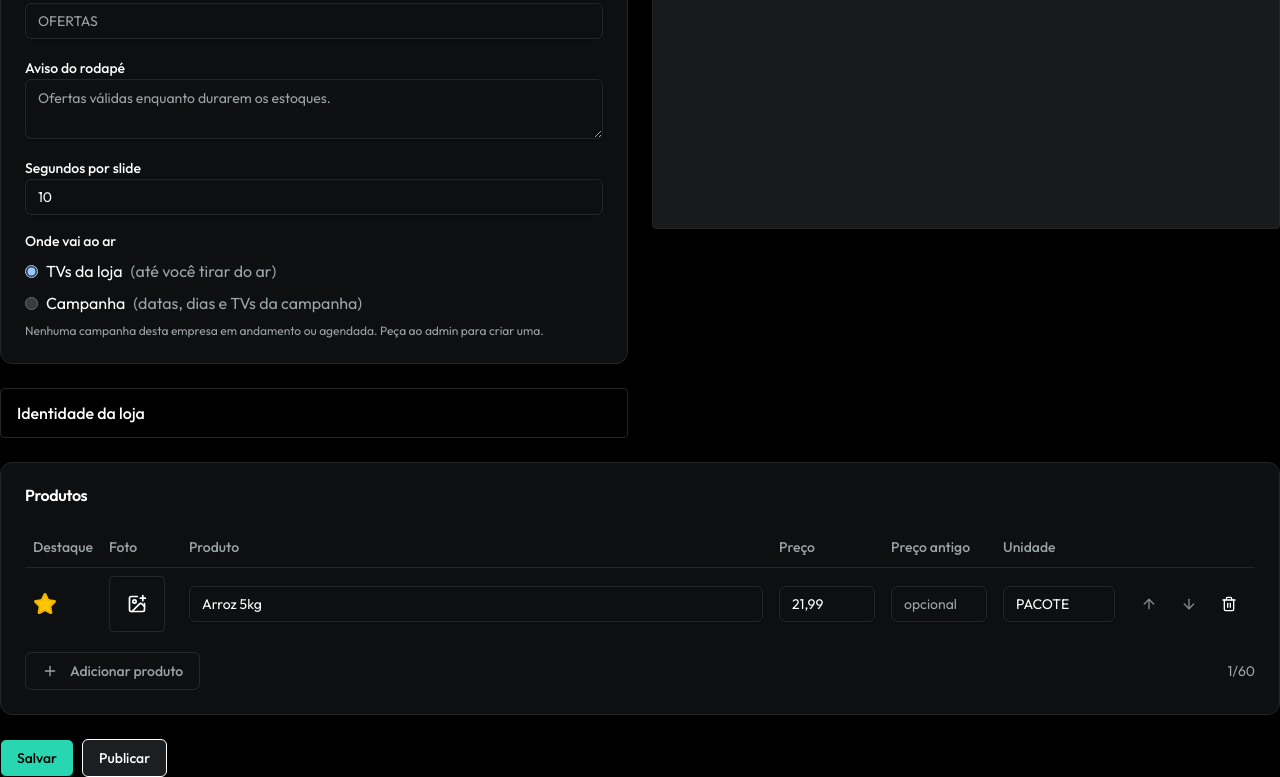
Scenario: FlyerEditor › avisa quando há mais de 3 destaques
(page scrolled)
Check: the 1st field showing "Arroz 5kg" is shown, box [189,586,763,622]
Click the button "Adicionar produto" at {"x": 113, "y": 670}, box [25,652,200,690]
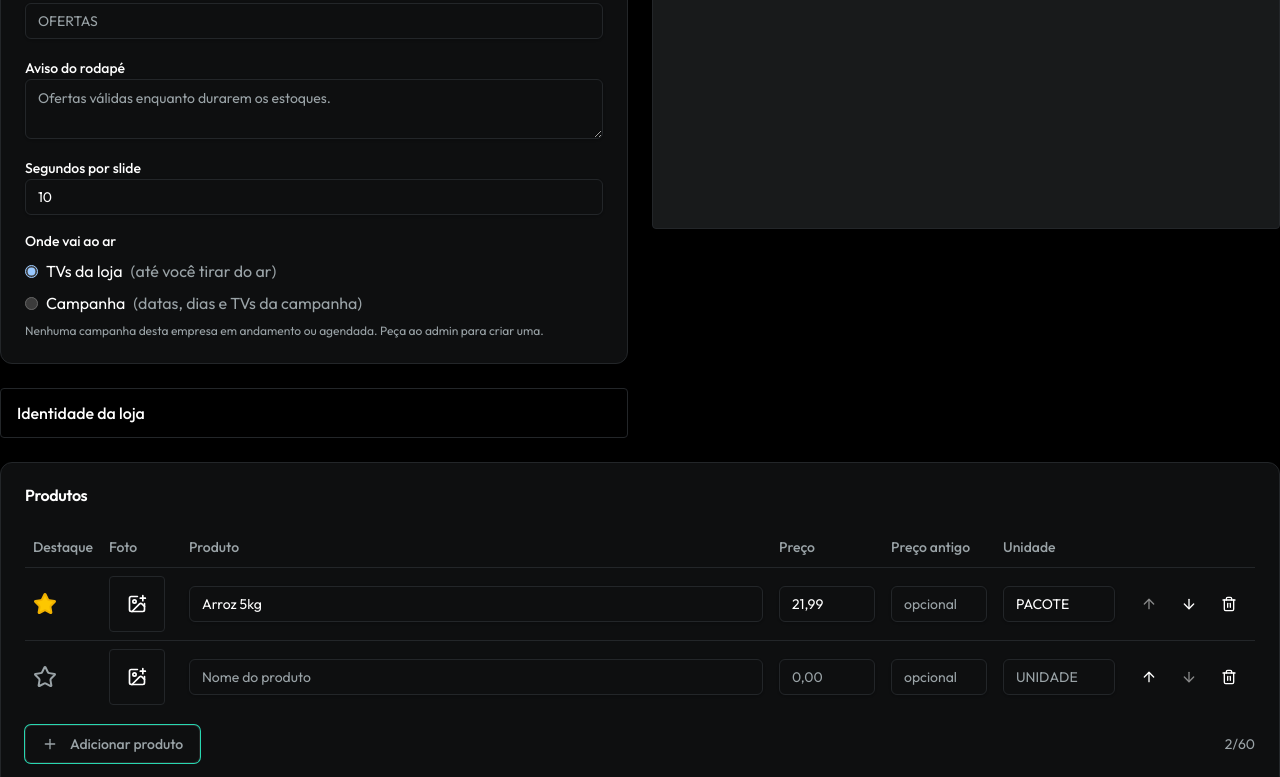
Click the button "Adicionar produto" at {"x": 113, "y": 744}, box [25,724,200,762]
(page scrolled)
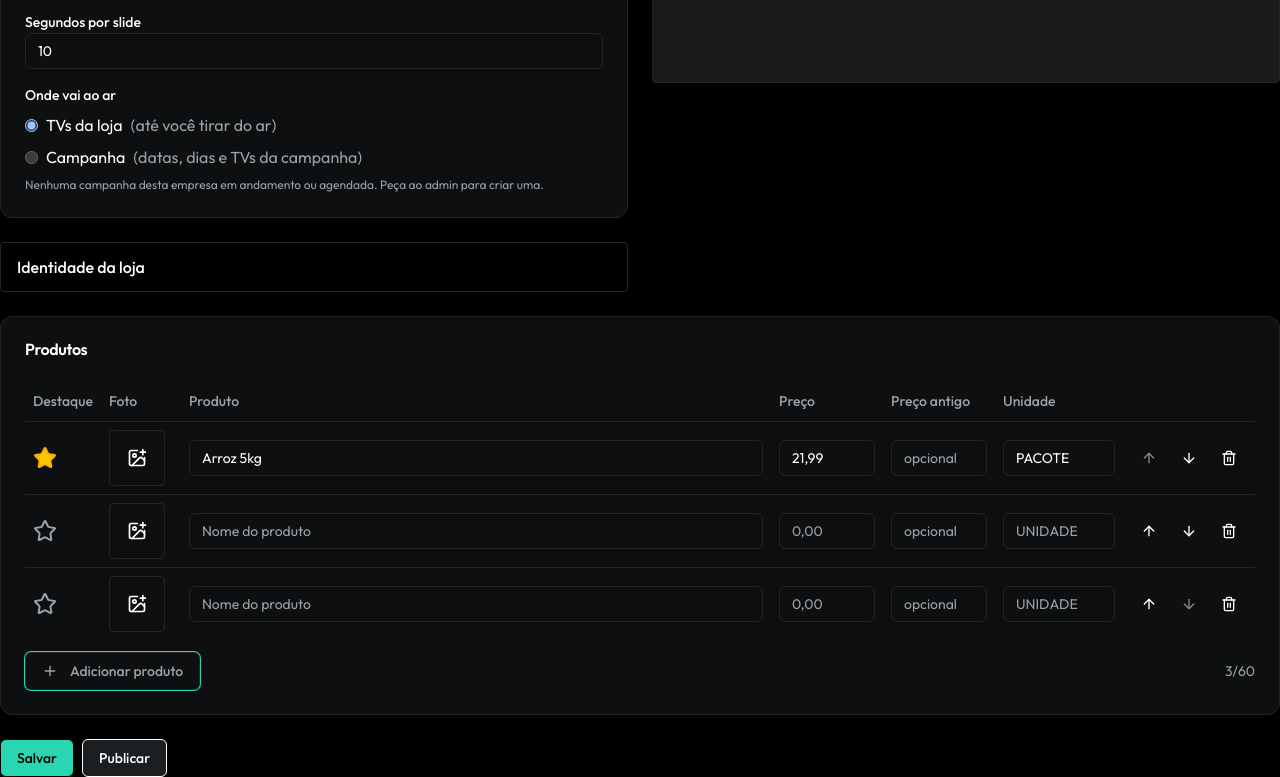
Click the button "Adicionar produto" at {"x": 113, "y": 670}, box [25,652,200,690]
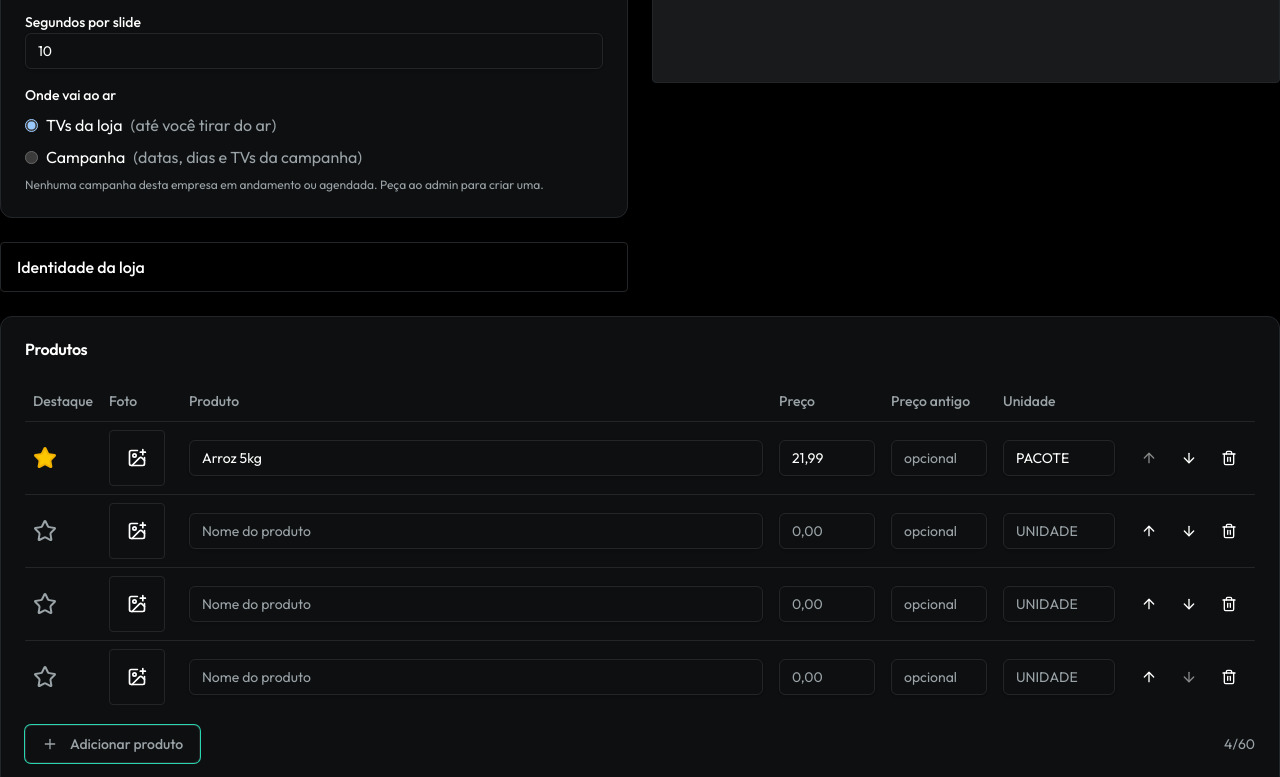
Click the checkbox named "destaque" at {"x": 45, "y": 530}, box [33,518,57,542]
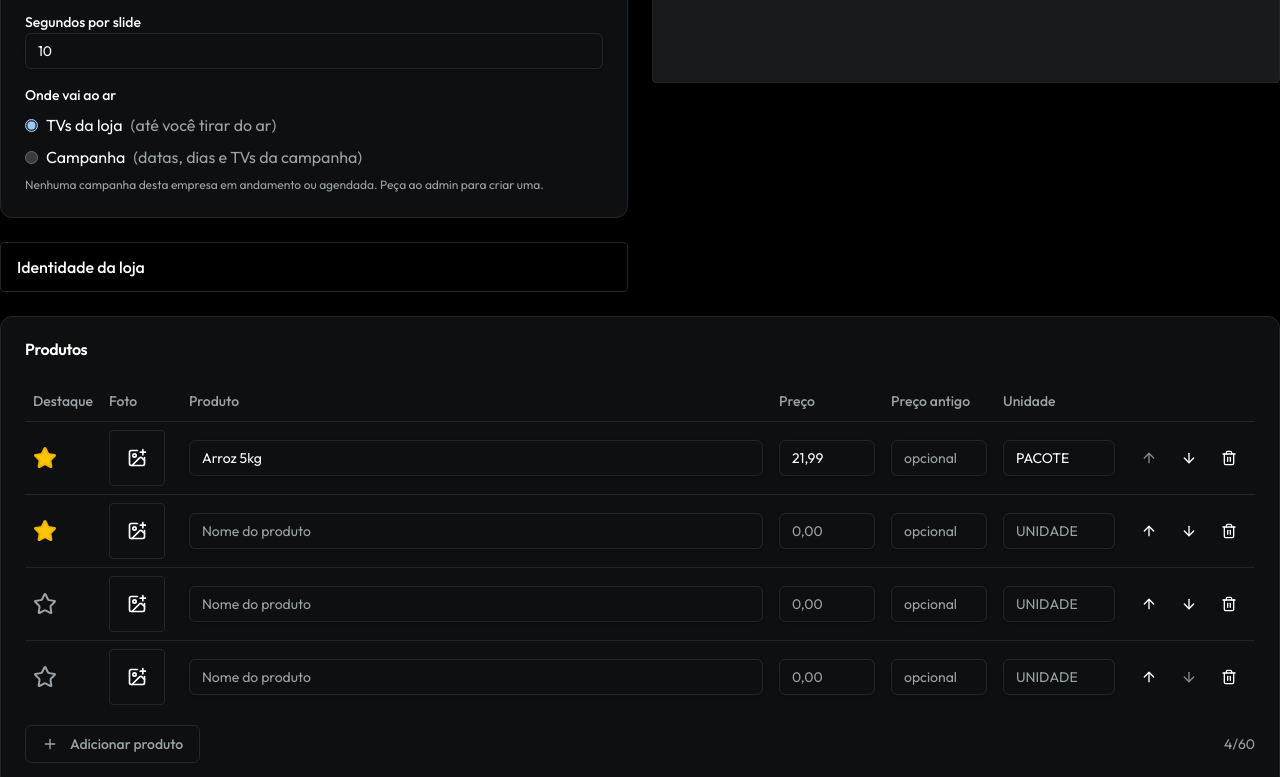
Click the checkbox named "destaque" at {"x": 45, "y": 604}, box [33,592,57,616]
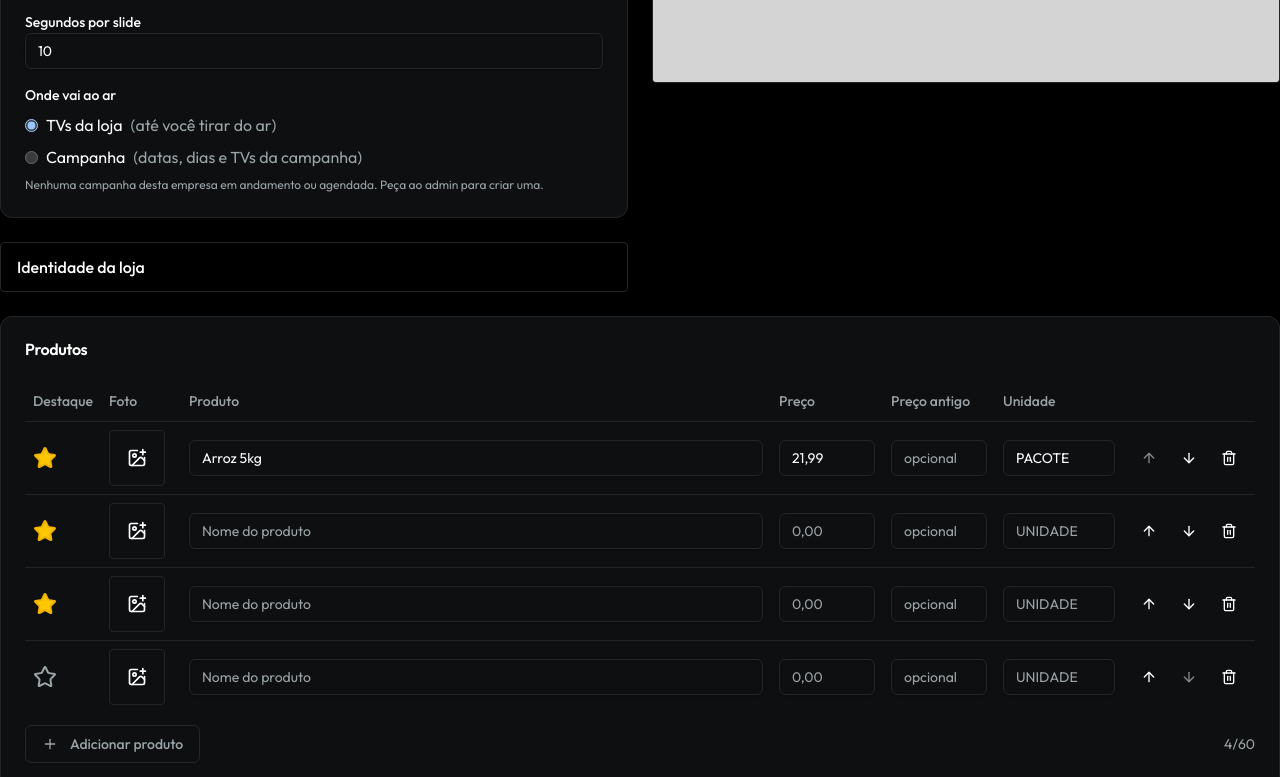
Click the checkbox named "destaque" at {"x": 45, "y": 676}, box [33,664,57,688]
(page scrolled)
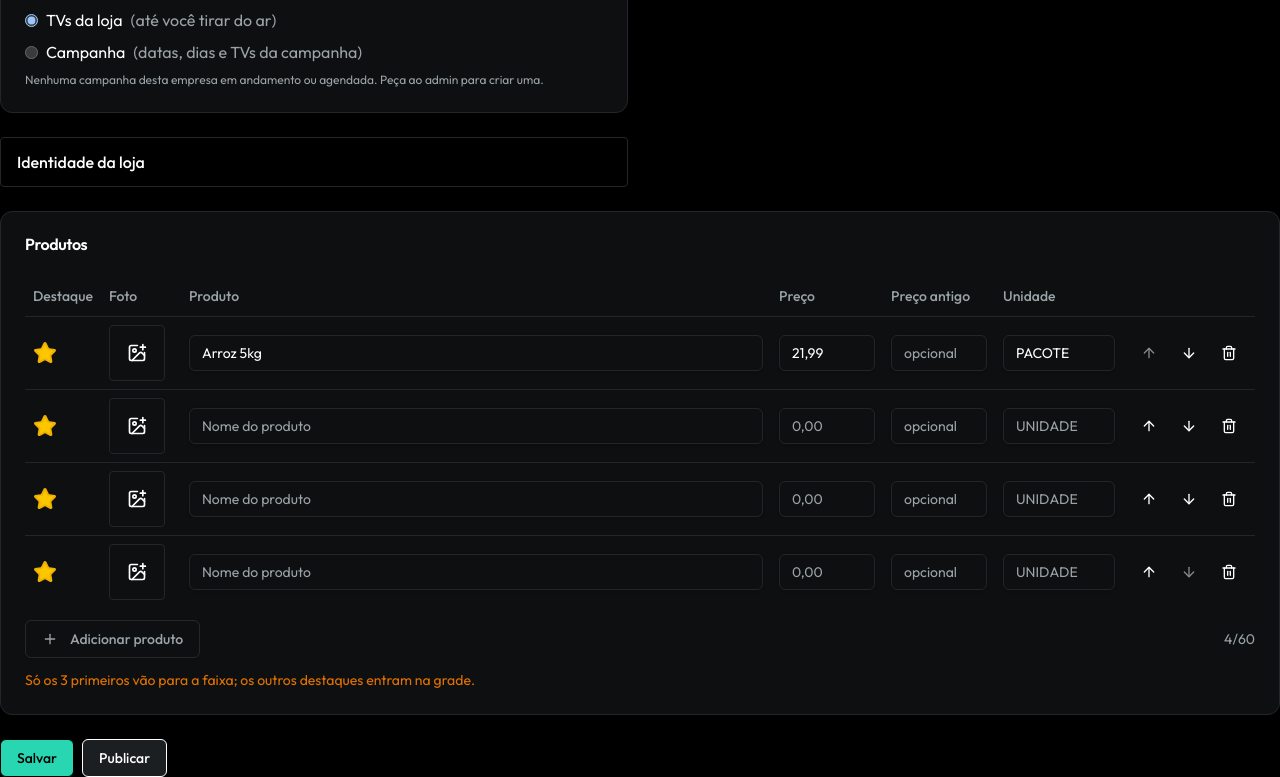
Check: the text "Só os 3 primeiros vão para a faixa" is shown, box [25,670,475,688]
